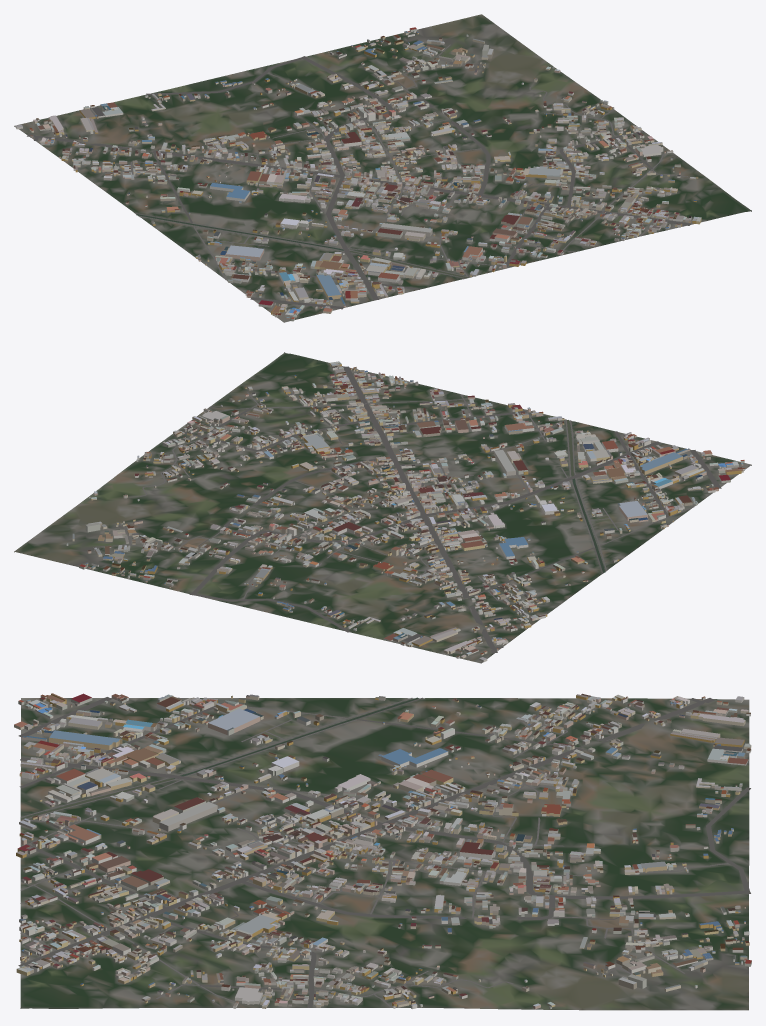
3 views of the same model, one above another, from view 1: azimuth 30°, elevation 25°; view 2: azimuth 150°, elevation 25°; view 3: azimuth 270°, elevation 25° (orthographic). The views are drawn at different scales.
Visible parts, largest first — view 1: ground, buildings, roads, water; view 2: ground, buildings, roads; view 3: ground, buildings, roads, water.
Part boxes in pixels (bbox=[...]): ground: bbox=[14, 14, 751, 322]; buildings: bbox=[15, 27, 701, 321]; roads: bbox=[27, 44, 690, 309]; water: bbox=[136, 210, 751, 278]; ground: bbox=[14, 353, 751, 663]; buildings: bbox=[66, 361, 744, 662]; roads: bbox=[93, 366, 721, 653]; ground: bbox=[20, 698, 749, 1010]; buildings: bbox=[14, 693, 751, 1009]; roads: bbox=[18, 697, 750, 1007]; water: bbox=[20, 697, 418, 1008].
Size of the model in its own units: 1411 by 29.22 by 1419.
